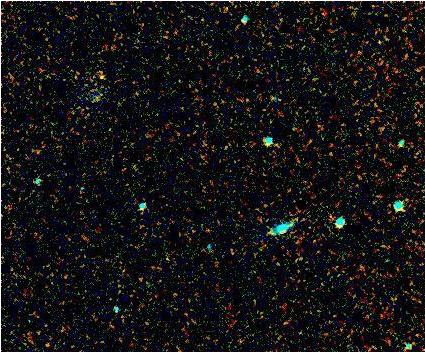star: (89, 57, 119, 87)
